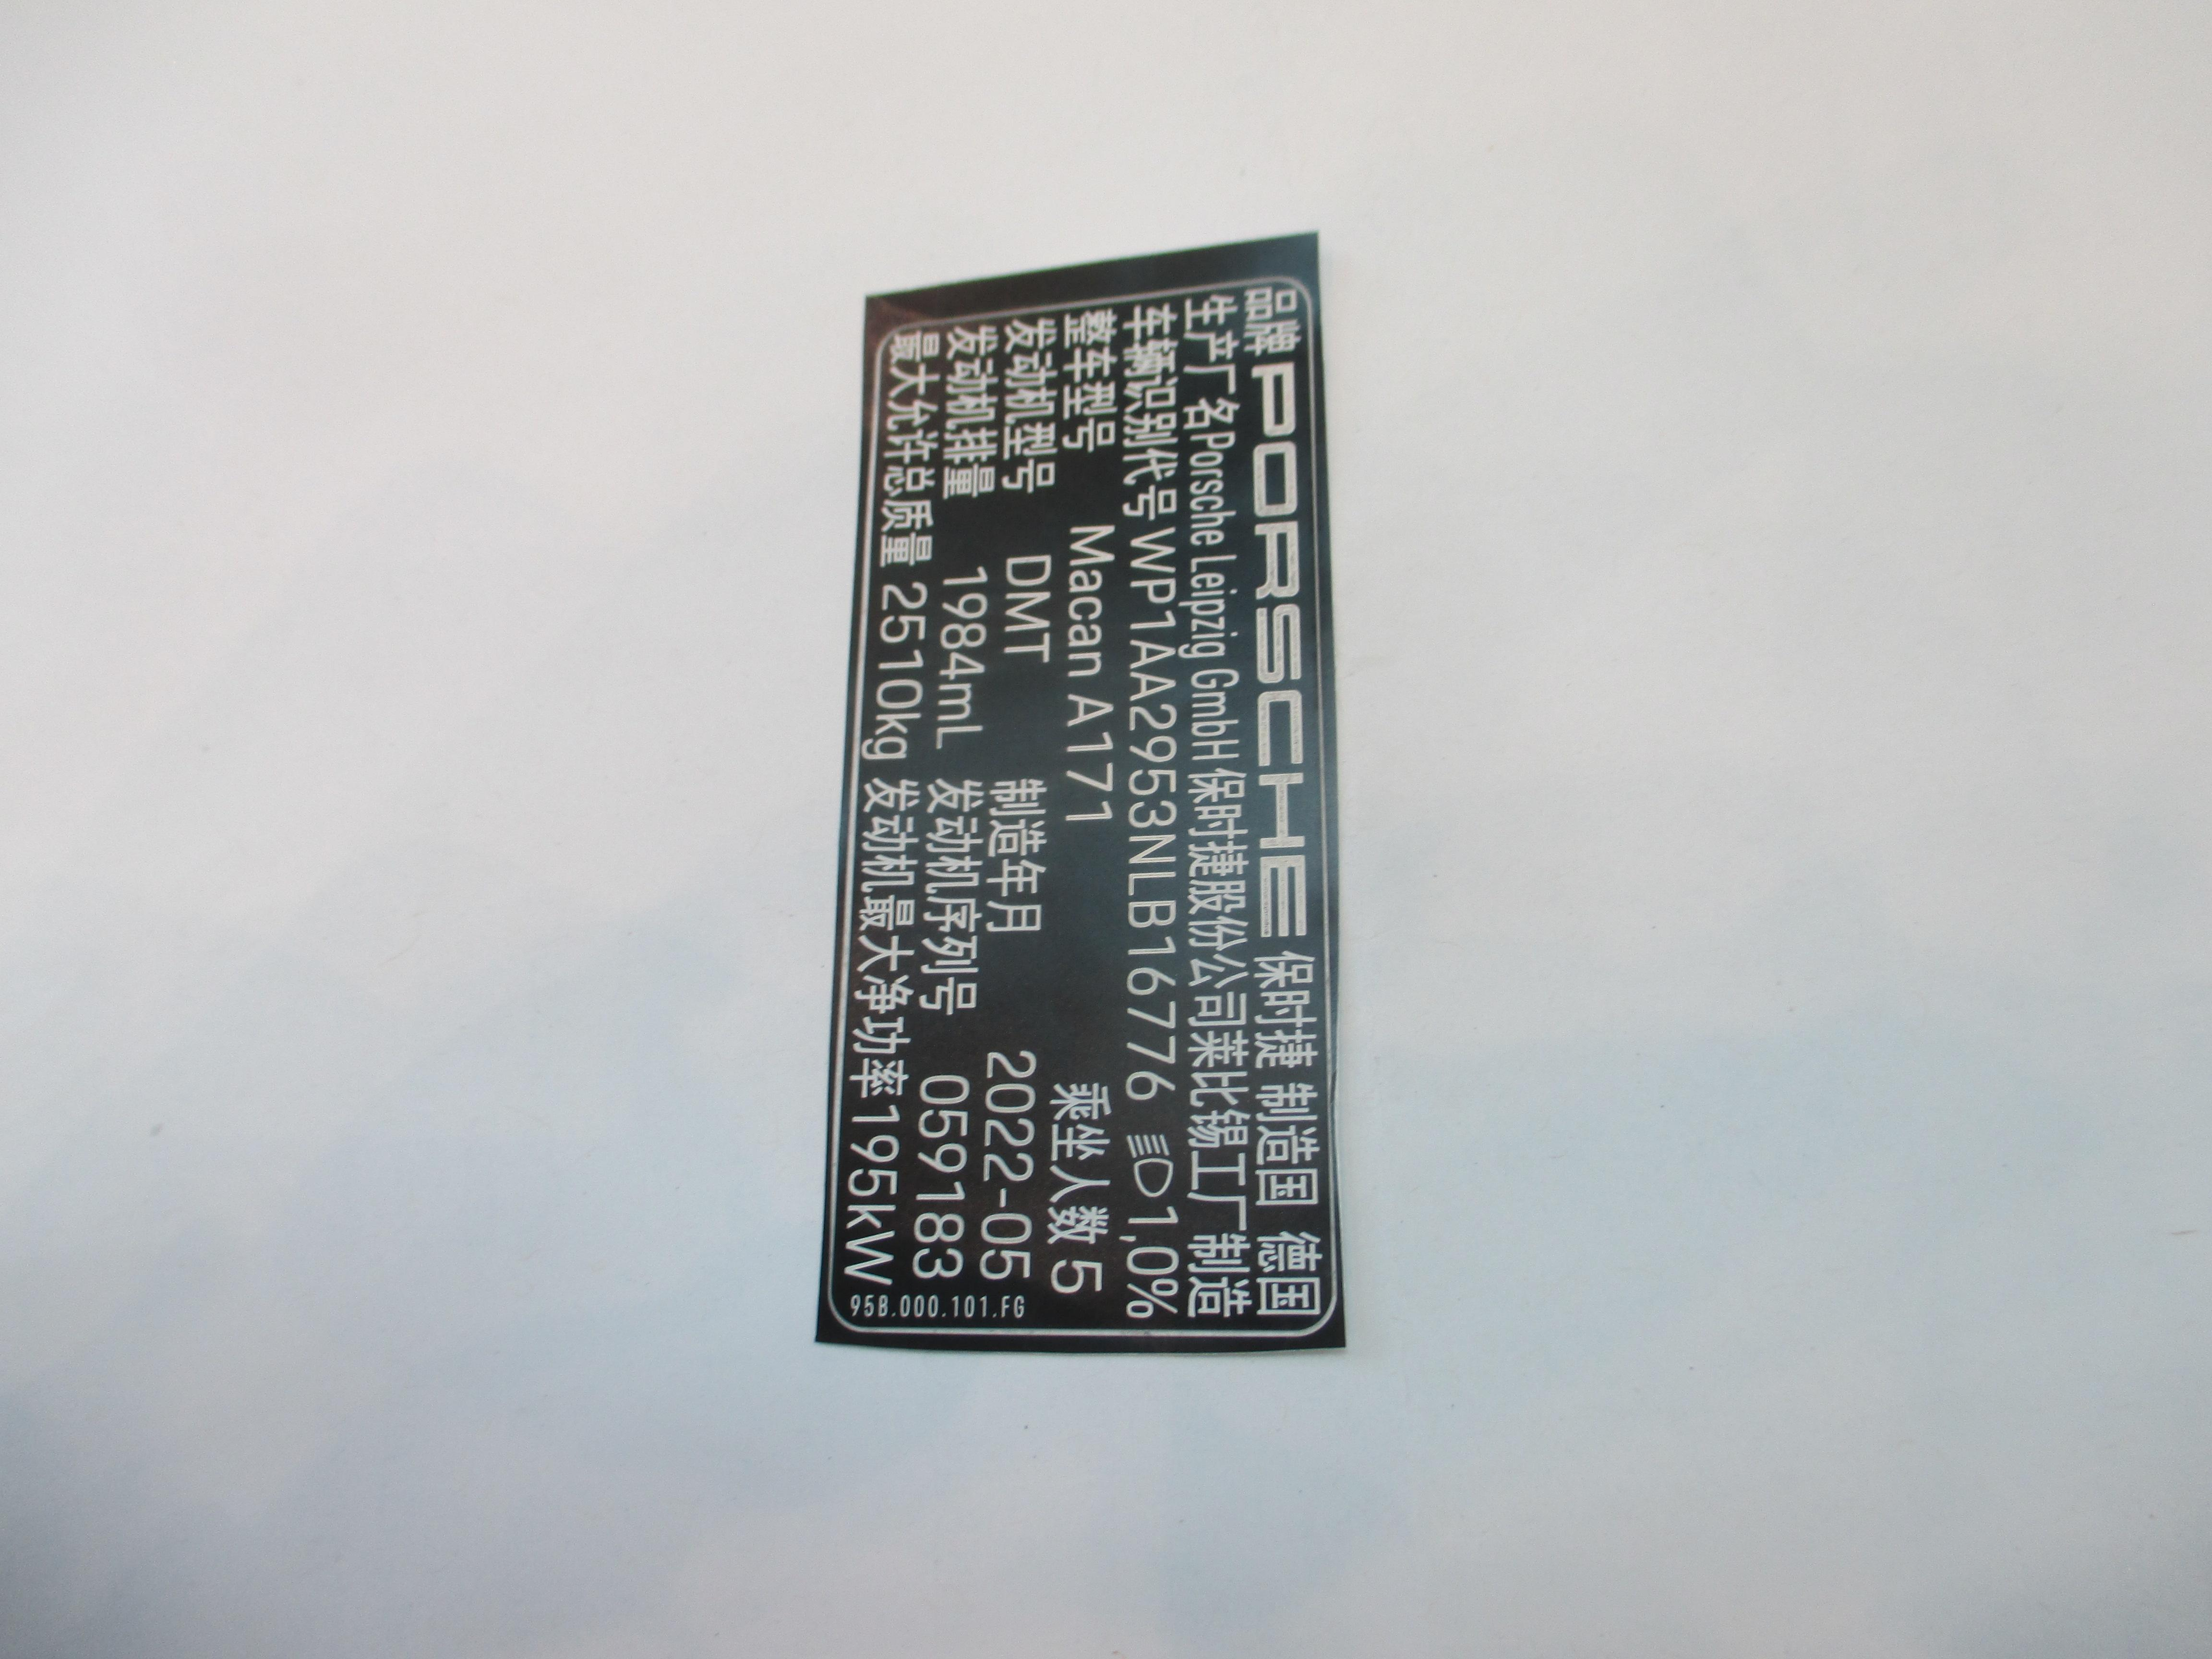Sign: (831, 281, 1336, 1337)
